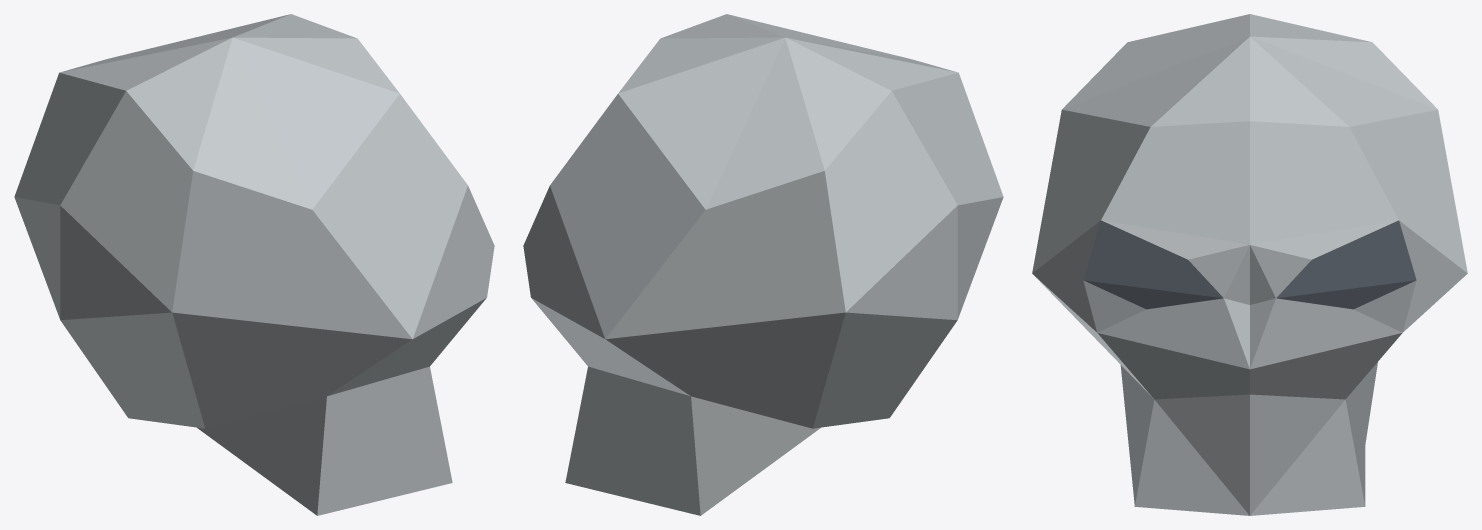
The model's file is Skull01.fbx.
3 views of the same model, side by side, from view 1: azimuth 30°, elevation 25°; view 2: azimuth 150°, elevation 25°; view 3: azimuth 270°, elevation 25° (orthographic). The views are drawn at different scales.
Visible parts, largest first — view 1: Skull01; view 2: Skull01; view 3: Skull01.
Boxes of the visible parts, left/top/right/bottom form: Skull01: left=14, top=14, right=494, bottom=515; Skull01: left=523, top=14, right=1003, bottom=515; Skull01: left=1032, top=14, right=1467, bottom=515.
Size of the model in its own units: 36.29 by 36.78 by 33.06.
